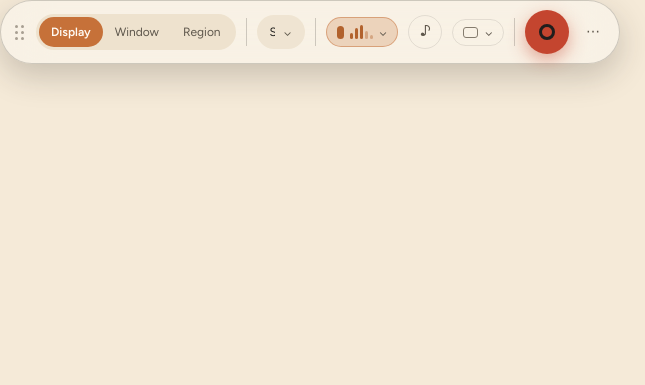
it: PreRecordHud menus › clicking the open menu's button closes it
This screenshot has width=645, height=385.
Click the button named "More options" at coordinates (593, 32), box [579,18,607,46]
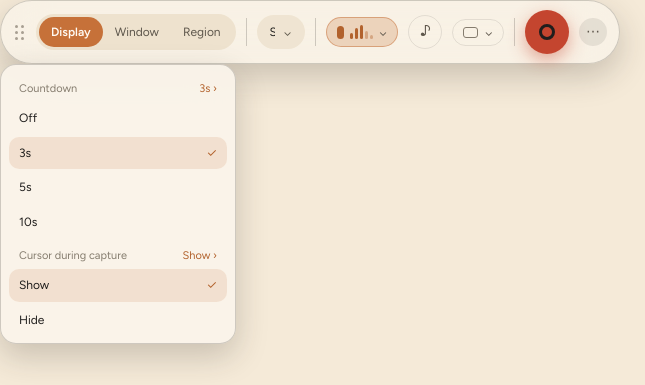
Click the button named "More options" at coordinates (593, 32), box [579,18,607,46]
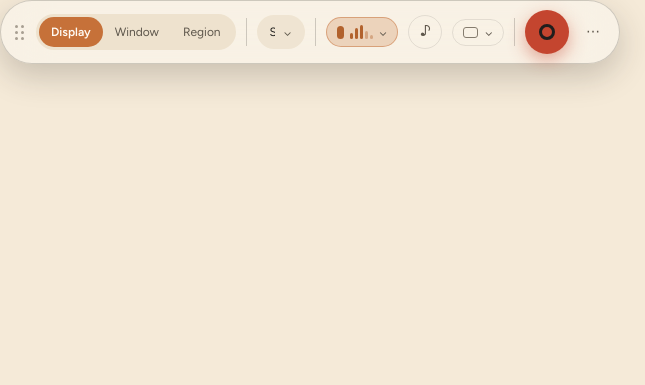
Now the menu is gone
